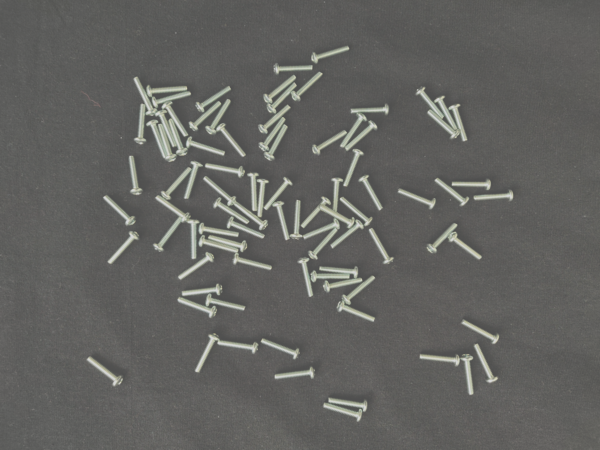longscrew: (86, 354, 125, 390), (231, 198, 269, 231), (258, 335, 303, 362), (425, 221, 460, 255), (107, 230, 141, 265), (176, 251, 217, 280), (101, 194, 137, 227), (153, 215, 184, 253), (473, 342, 500, 385), (160, 166, 193, 201), (188, 100, 223, 133), (257, 103, 293, 135), (263, 176, 295, 212), (216, 122, 248, 158), (434, 177, 471, 208), (194, 333, 221, 375), (195, 84, 234, 113), (299, 196, 332, 230), (460, 318, 500, 346), (339, 196, 374, 228), (426, 109, 461, 141), (344, 120, 379, 152), (414, 85, 445, 121), (339, 112, 369, 149), (154, 194, 192, 223), (357, 173, 385, 212), (132, 75, 158, 117), (266, 82, 299, 115), (291, 70, 325, 102), (202, 175, 237, 206), (369, 227, 396, 267), (448, 232, 484, 262), (161, 102, 190, 139), (311, 128, 349, 156), (212, 197, 250, 225), (342, 276, 377, 306), (330, 220, 365, 250), (263, 74, 298, 104), (258, 116, 287, 152), (175, 296, 218, 320), (206, 98, 233, 136), (308, 228, 339, 261), (225, 216, 267, 240), (397, 186, 437, 211), (434, 94, 460, 132), (264, 124, 290, 162), (336, 300, 377, 324), (186, 135, 227, 158), (318, 204, 355, 229), (146, 119, 168, 161), (302, 217, 342, 240), (323, 401, 364, 423), (448, 102, 470, 143), (154, 109, 177, 148), (198, 234, 240, 255), (157, 122, 178, 164), (343, 149, 365, 189), (311, 43, 351, 65), (205, 293, 246, 314), (151, 90, 193, 110), (168, 117, 189, 157), (207, 234, 248, 254), (272, 200, 291, 243), (204, 161, 247, 180), (216, 338, 261, 356), (184, 161, 204, 201), (232, 252, 274, 271), (296, 257, 315, 298), (327, 396, 369, 414), (419, 352, 461, 370), (127, 155, 145, 197), (322, 277, 365, 294), (460, 352, 476, 396), (272, 367, 318, 382), (198, 222, 240, 238), (473, 188, 516, 203), (187, 218, 202, 261), (133, 103, 148, 146), (318, 265, 360, 280), (246, 170, 261, 212), (180, 283, 224, 297), (451, 177, 493, 191), (256, 177, 270, 219), (144, 84, 189, 97), (330, 176, 344, 216), (291, 199, 304, 242), (349, 103, 391, 116), (310, 270, 351, 283), (273, 62, 314, 75)
